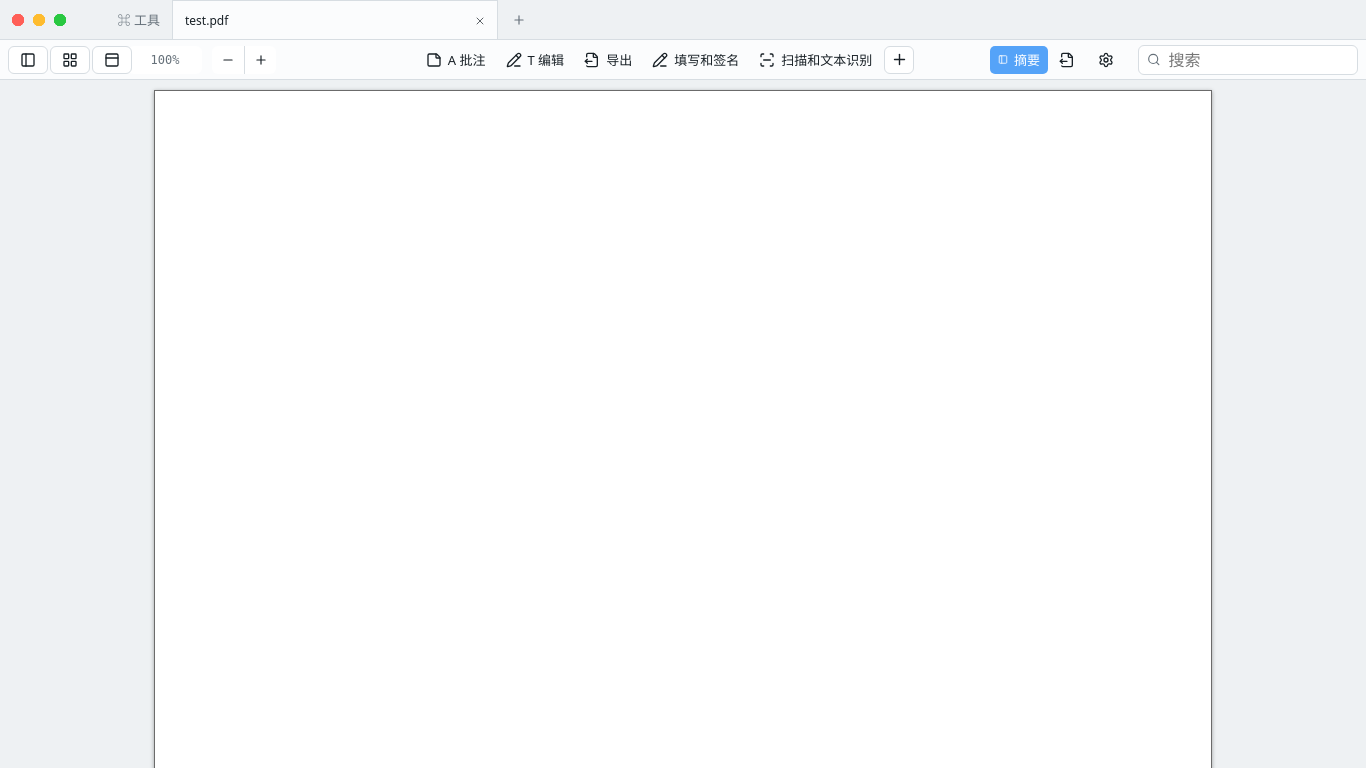
Test: AppShell modes 上下文工具条 › 核心工作流在 L3 直接可达，「+」工具菜单不再重复承载（ISS-QA-12 去重）
Expected: the button "扫描和文本识别" is shown, [751, 46, 880, 74]
Expected: the button "A 批注" is shown, [418, 46, 494, 74]
Click the button "导出" at x=608, y=60, box [576, 46, 640, 74]
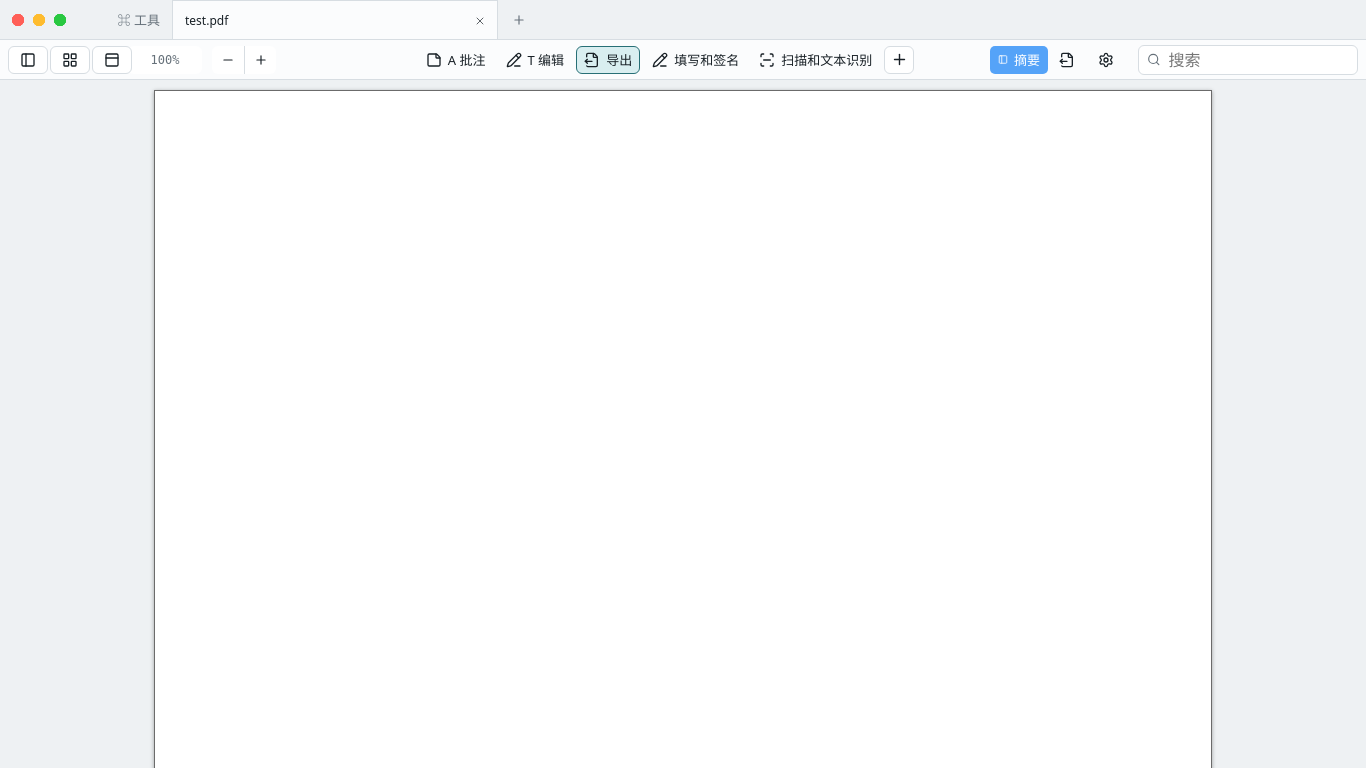
Click the button named "工具" at x=899, y=60, box [884, 46, 914, 74]
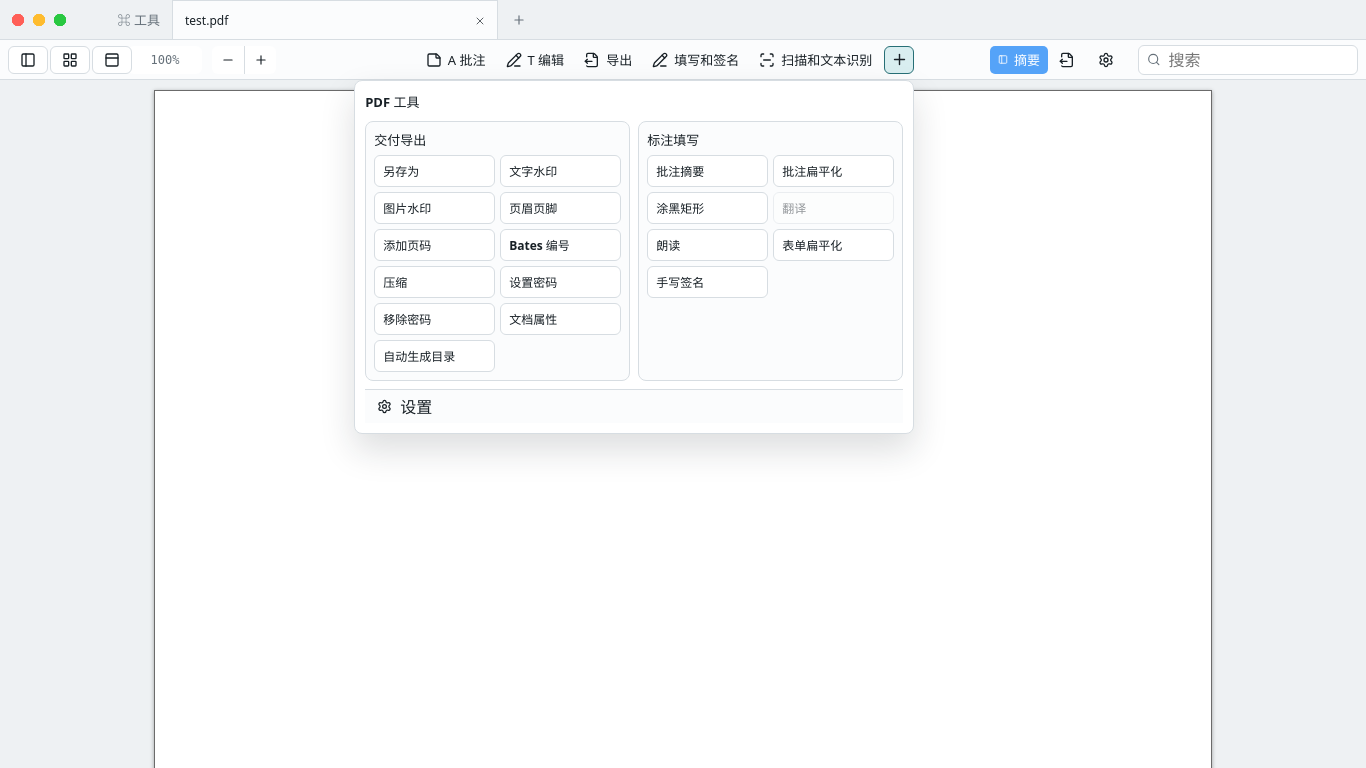
Result: the menu item "设置" is shown at [365, 388, 903, 422]
